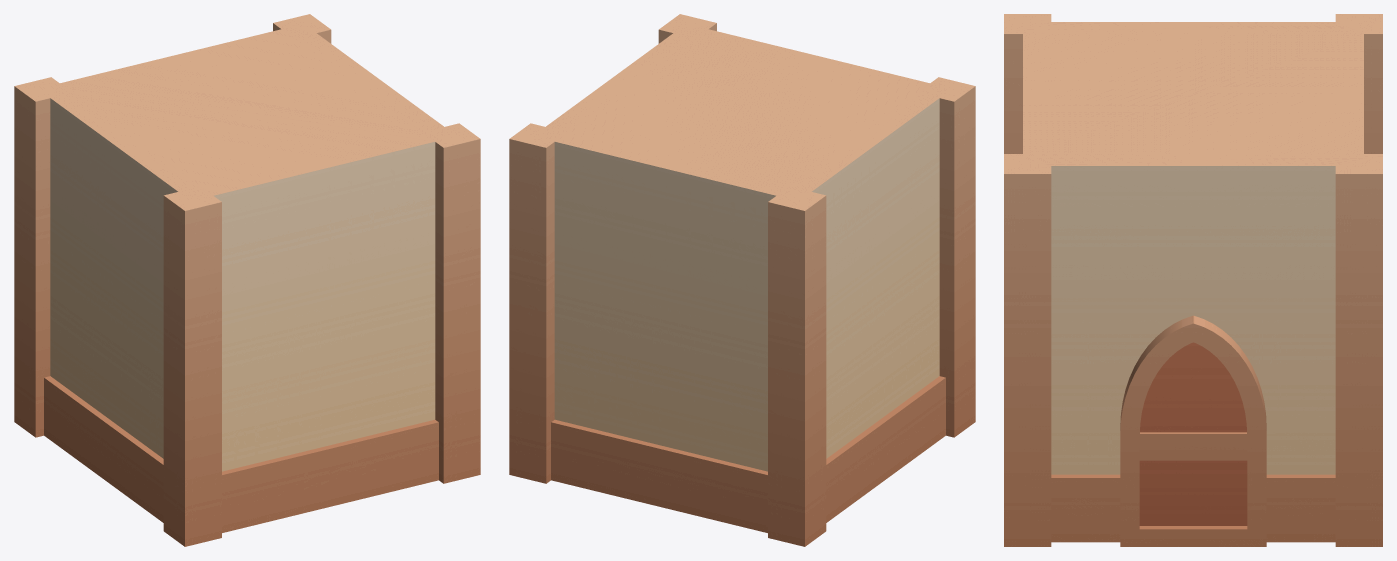
The model's file is tower-square-mid-door.glb.
3 views of the same model, side by side, from view 1: azimuth 30°, elevation 25°; view 2: azimuth 150°, elevation 25°; view 3: azimuth 270°, elevation 25° (orthographic). The views are drawn at different scales.
Parts seen in each view (by area): view 1: tower-square-mid-door; view 2: tower-square-mid-door; view 3: tower-square-mid-door.
Boxes of the visible parts, x1,y1,x2,y2 form: tower-square-mid-door: (14, 14, 480, 546); tower-square-mid-door: (509, 14, 975, 546); tower-square-mid-door: (1004, 14, 1382, 546).
Size of the model in its own units: 0.93 by 1.01 by 0.93.
1 material, 1 textured.
